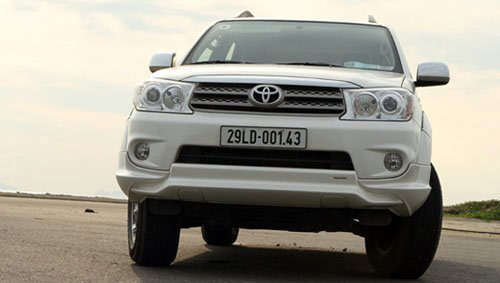number-plate: (222, 126, 310, 147)
